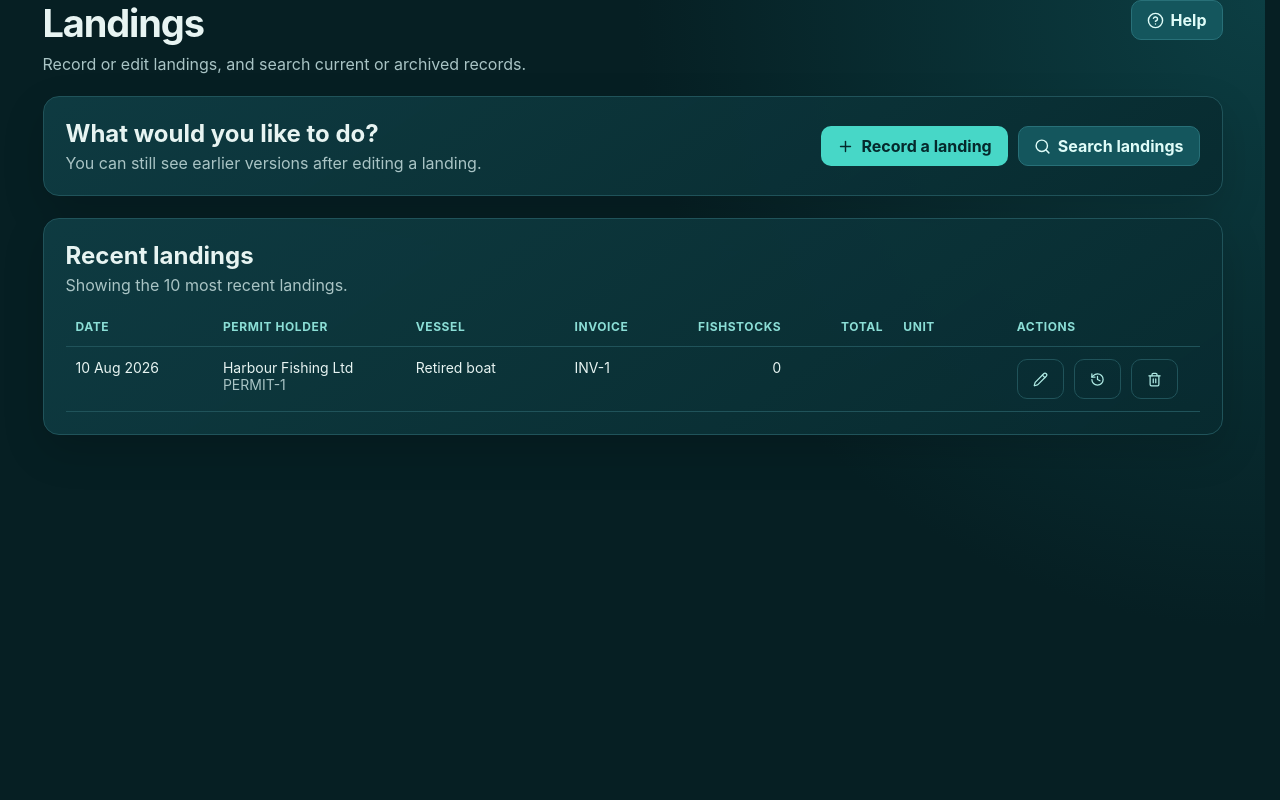
Scenario: hides archived vessels on new landings and retains the original vessel when editing history
The width and height of the screenshot is (1280, 800).
Click the button "Record a landing" at (915, 146), box [822,126,1008,166]
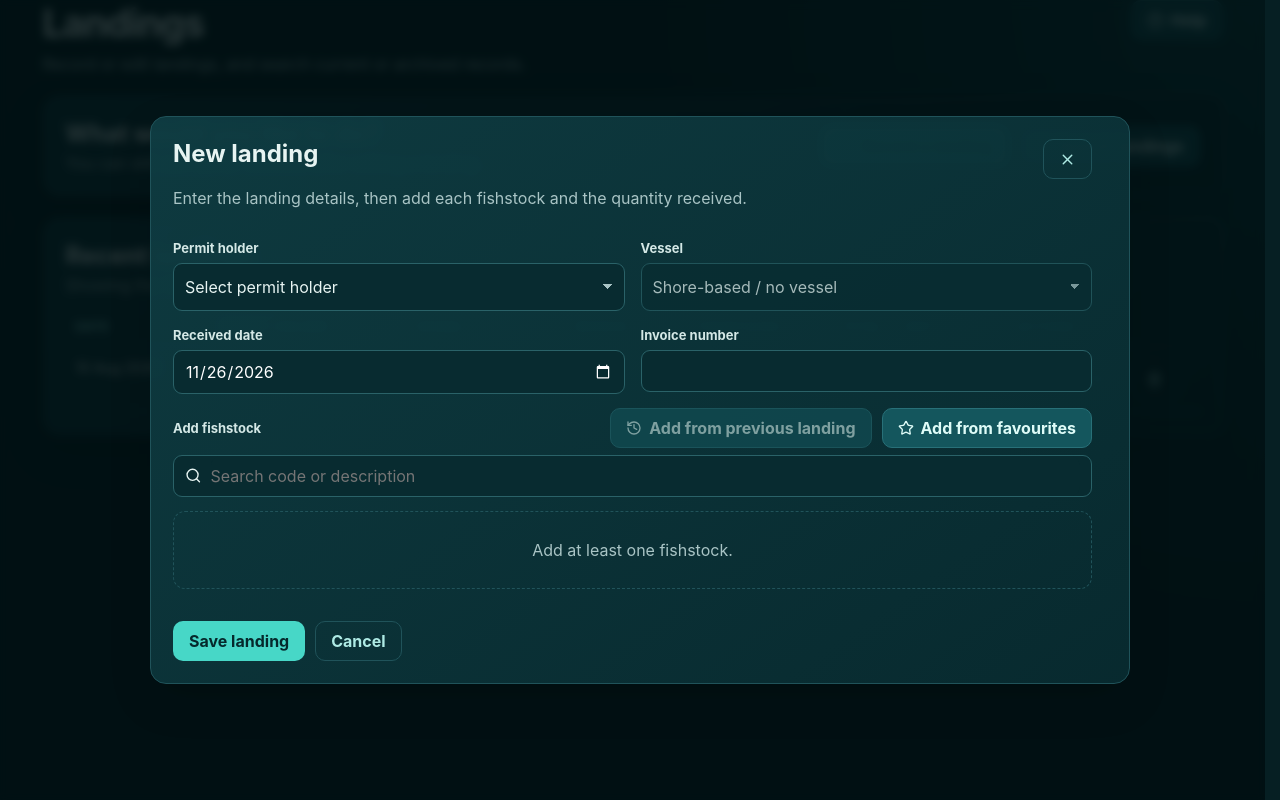
Select "Harbour Fishing Ltd — PERMIT-1" in the dropdown labelled "Permit holder" at (399, 287), box [173,263,624,311]
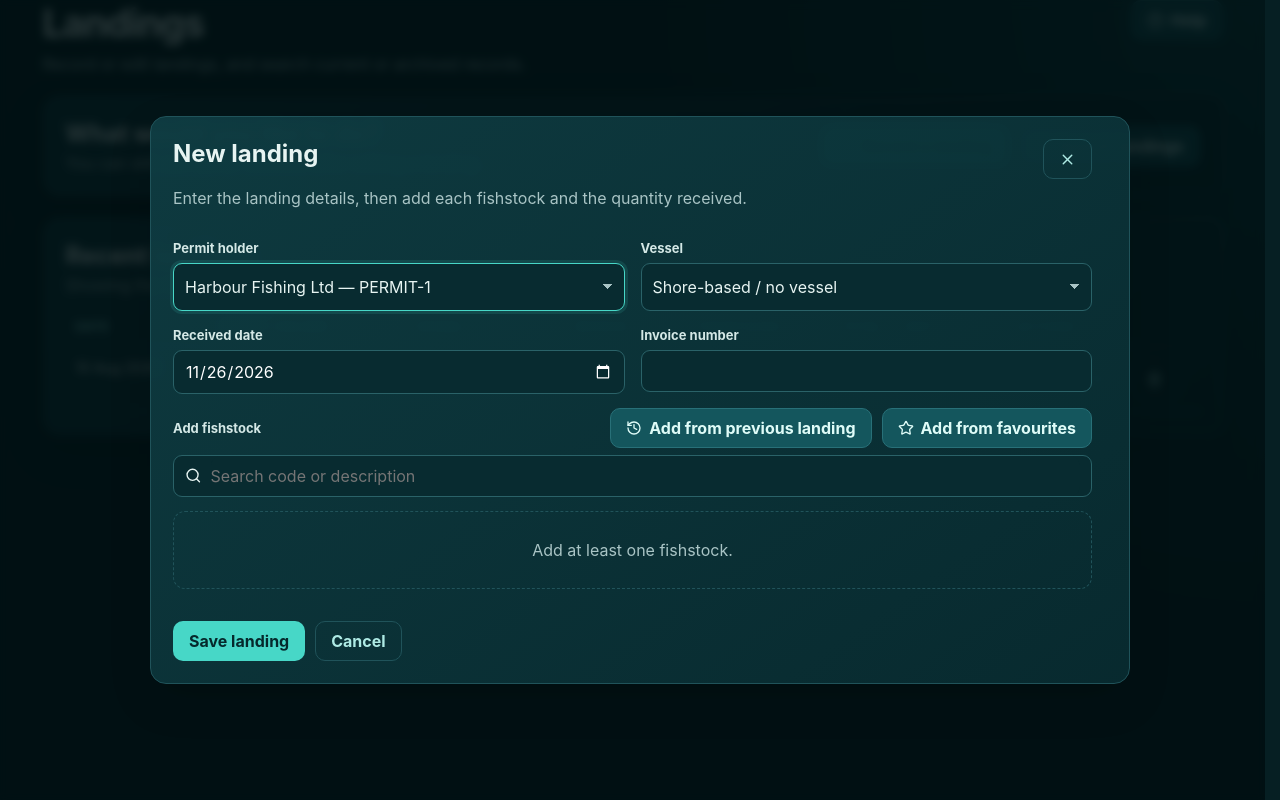
Click the button "Cancel" at (358, 641), box [315,621,402,661]
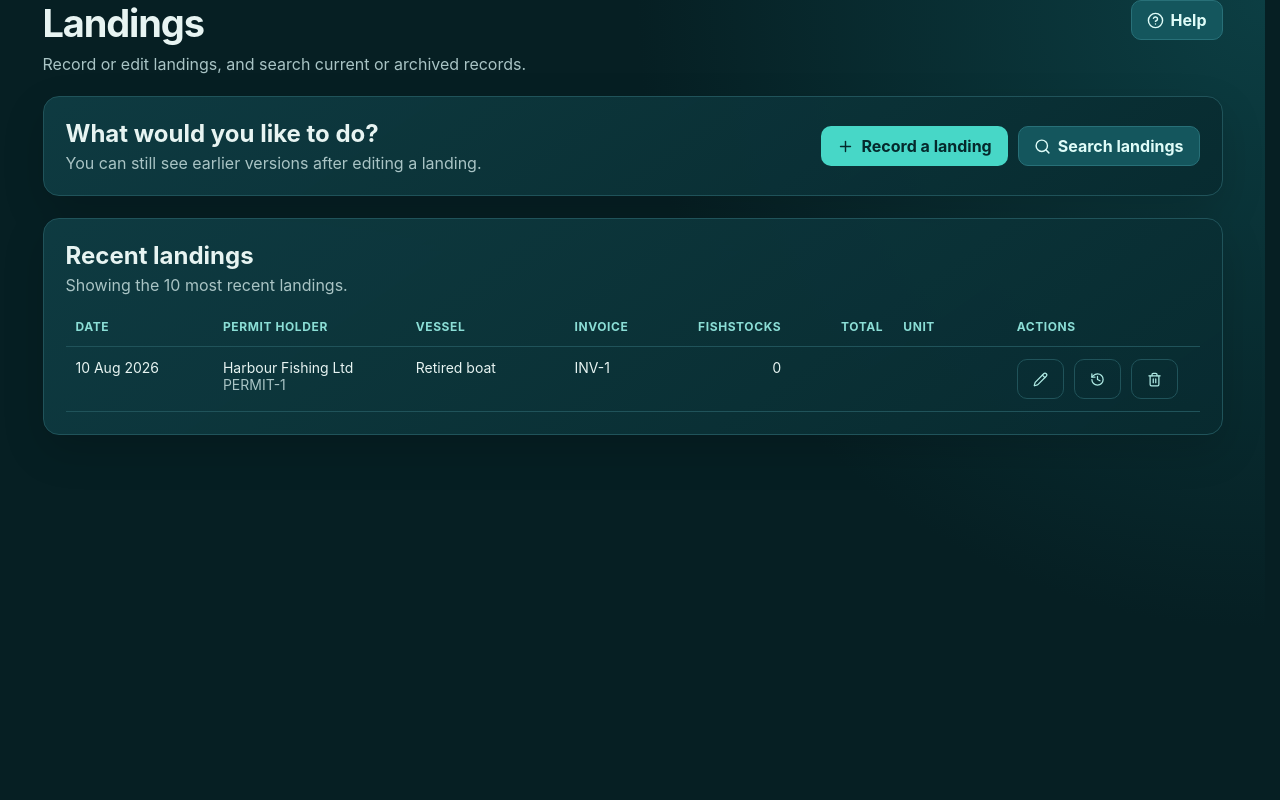
Click the button titled "Edit" at (1040, 379), box [1017,359,1064,399]
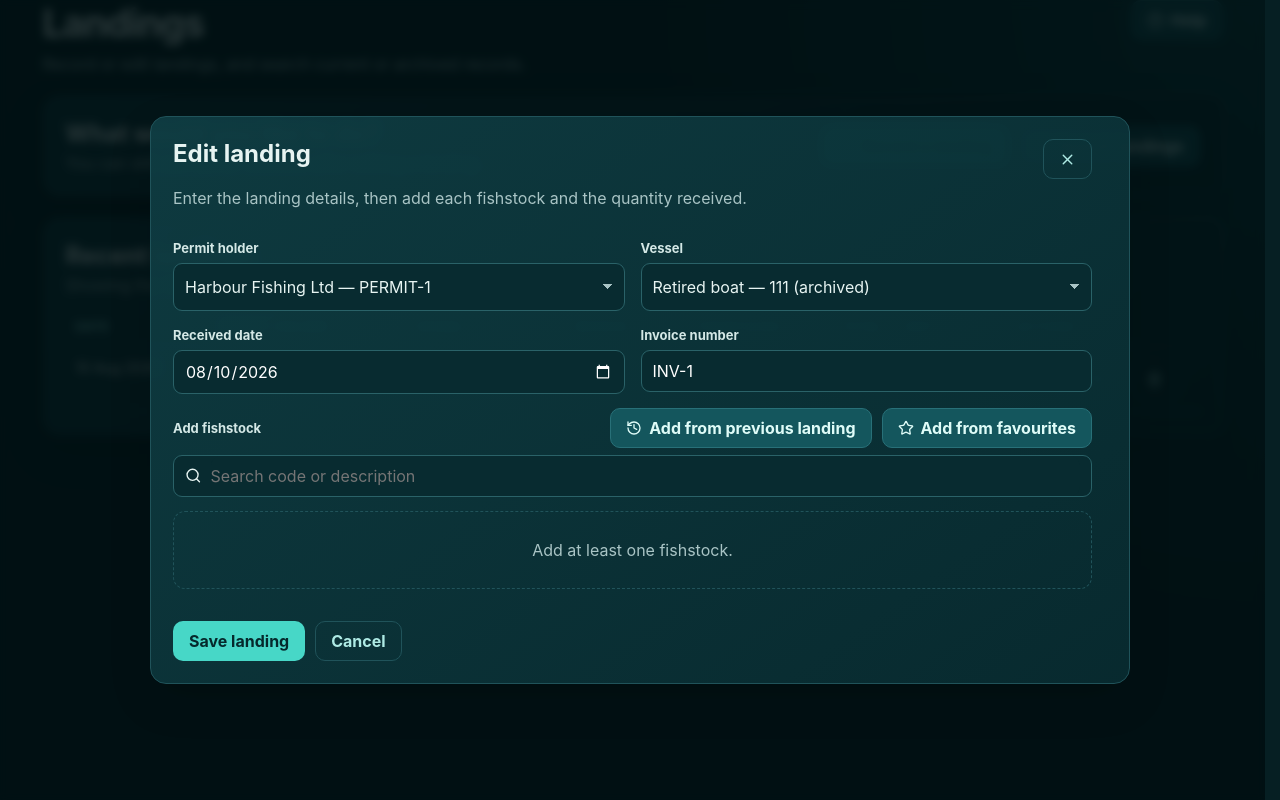
Check: the dropdown labelled "Vessel" shows "Retired boat — 111 (archived)", box [640,263,1092,311]
